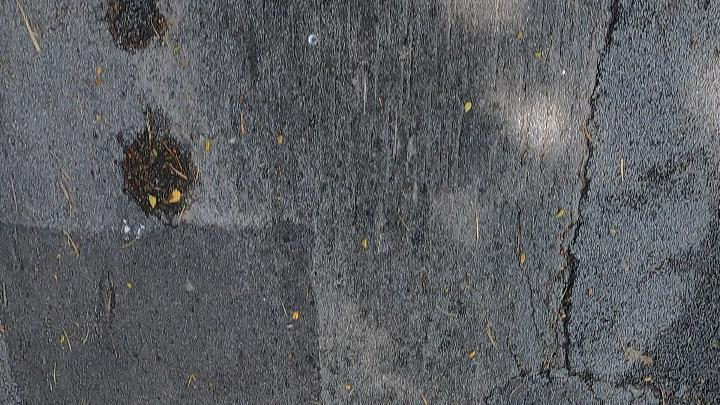Crack: (560, 0, 633, 405), (566, 139, 634, 404), (587, 0, 621, 125)
Pothole: (119, 105, 198, 225), (117, 104, 196, 223), (98, 0, 172, 54), (109, 0, 166, 52)
